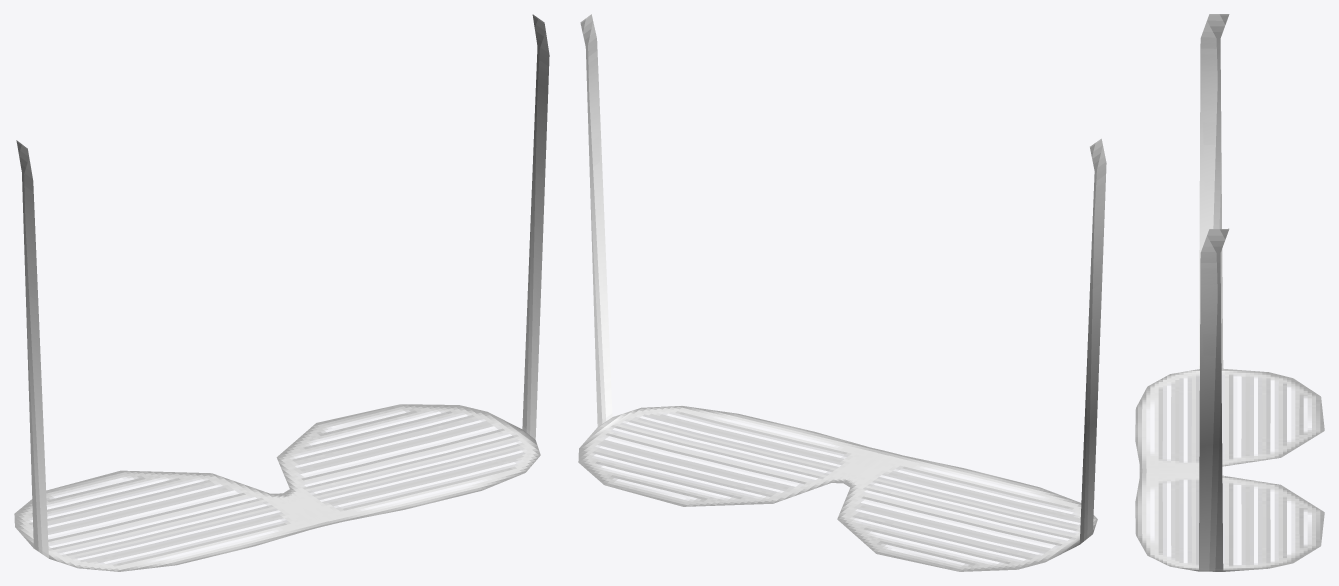
The model's file is tt_m_chr_avt_acc_msk_miniblinds.glb.
3 renders of one model, left to right at view 1: azimuth 30°, elevation 25°; view 2: azimuth 150°, elevation 25°; view 3: azimuth 270°, elevation 25°, orthographic. The views are drawn at different scales.
Visible parts, largest first — view 1: miniblinds; view 2: miniblinds; view 3: miniblinds.
Part boxes in pixels (x1,y1,x2,y2): miniblinds: [14, 14, 549, 571]; miniblinds: [578, 14, 1106, 571]; miniblinds: [1135, 14, 1324, 571].
Size of the model in its own units: 3.24 by 2.46 by 1.21.
Materials: 1 (1 with a texture image).
